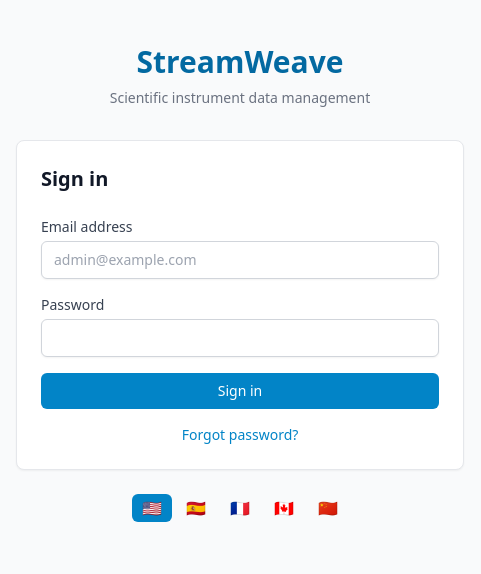
Test: Login page › shows fallback error message on login failure (no detail)
Type "wrong@example.com" into the field labelled "Email address" at (240, 260), box [41,241,439,279]
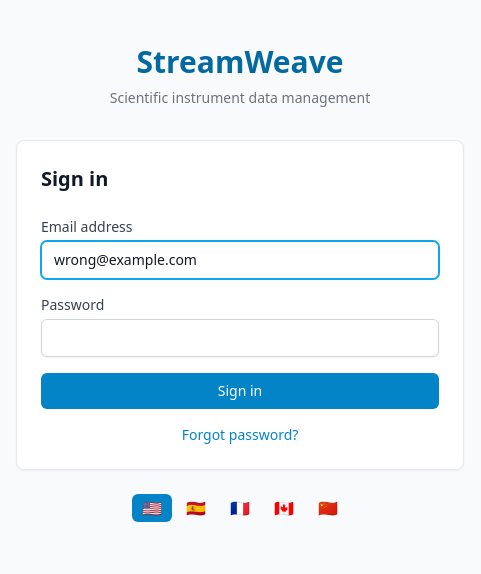
Type "wrongpass" into the password field labelled "Password" at (240, 338), box [41,319,439,357]
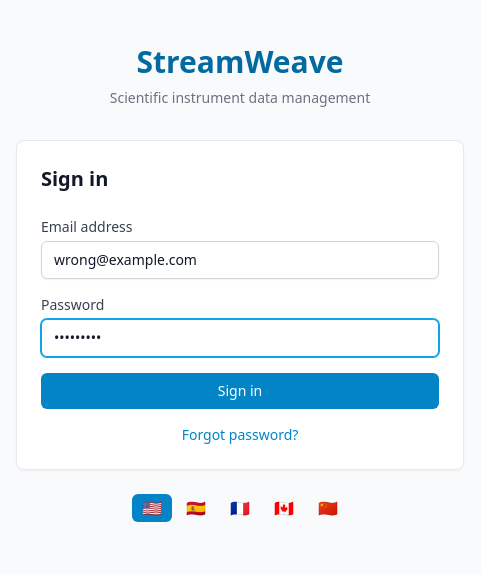
Click the button "Sign in" at (240, 391), box [41,373,439,409]
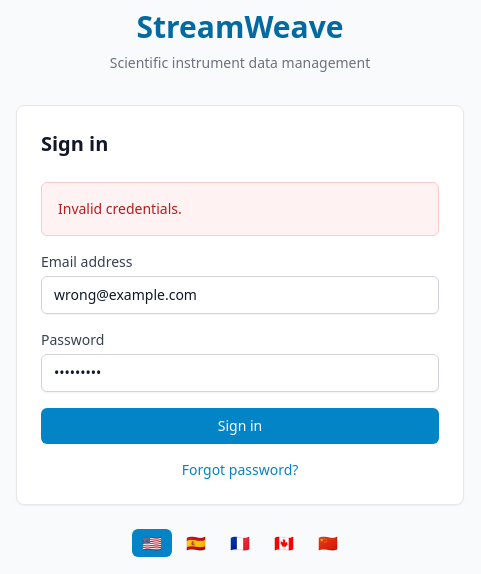
Expected: the text "Invalid credentials." is shown, [41,182,439,236]
